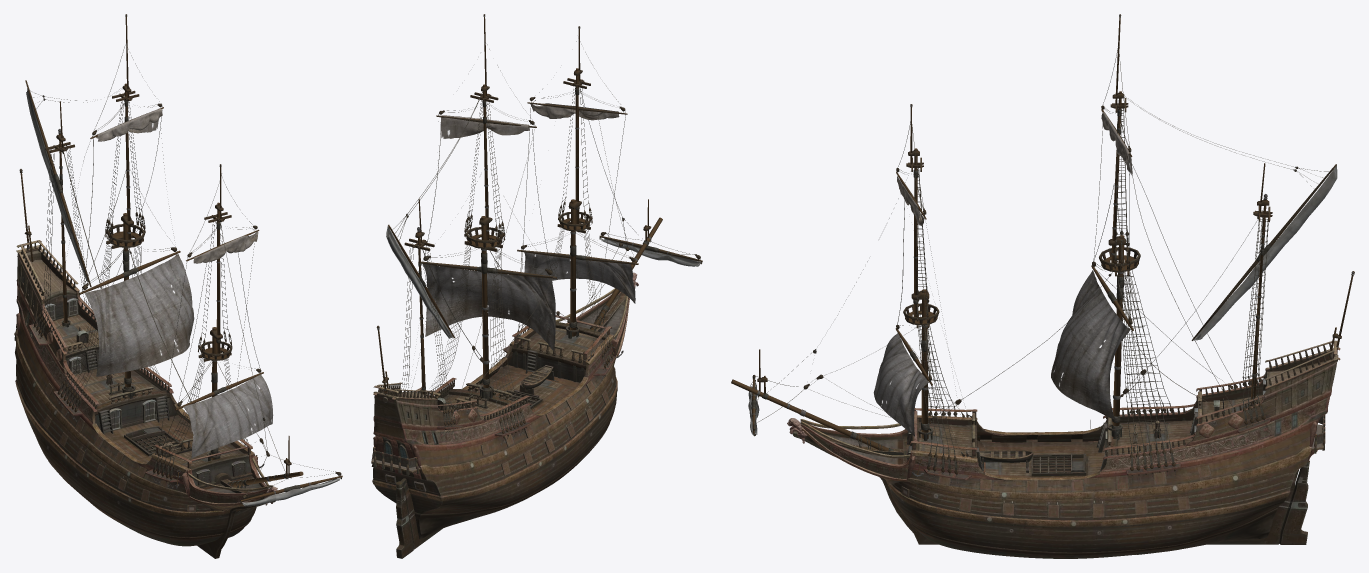
Rendered from boat-transformed.glb.
The picture shows the model from 3 angles, left to right: view 1: azimuth 30°, elevation 25°; view 2: azimuth 150°, elevation 25°; view 3: azimuth 270°, elevation 25°; orthographic projection. The views are drawn at different scales.
Visible parts, largest first — view 1: dutch_ship_large_02_hull, dutch_ship_large_02_rigging, dutch_ship_large_02_sails; view 2: dutch_ship_large_02_hull, dutch_ship_large_02_rigging, dutch_ship_large_02_sails; view 3: dutch_ship_large_02_hull, dutch_ship_large_02_rigging, dutch_ship_large_02_sails.
Boxes of the visible parts, left/top/right/bottom form: dutch_ship_large_02_hull: left=14, top=240, right=277, bottom=558; dutch_ship_large_02_rigging: left=19, top=14, right=342, bottom=506; dutch_ship_large_02_sails: left=85, top=108, right=273, bottom=458; dutch_ship_large_02_hull: left=371, top=272, right=638, bottom=558; dutch_ship_large_02_rigging: left=376, top=14, right=702, bottom=445; dutch_ship_large_02_sails: left=422, top=103, right=635, bottom=350; dutch_ship_large_02_hull: left=787, top=340, right=1340, bottom=558; dutch_ship_large_02_rigging: left=731, top=14, right=1354, bottom=483; dutch_ship_large_02_sails: left=873, top=112, right=1132, bottom=436.
Size of the model in its own units: 8.54 by 32.08 by 34.25.
Materials: 3 (3 with a texture image).
